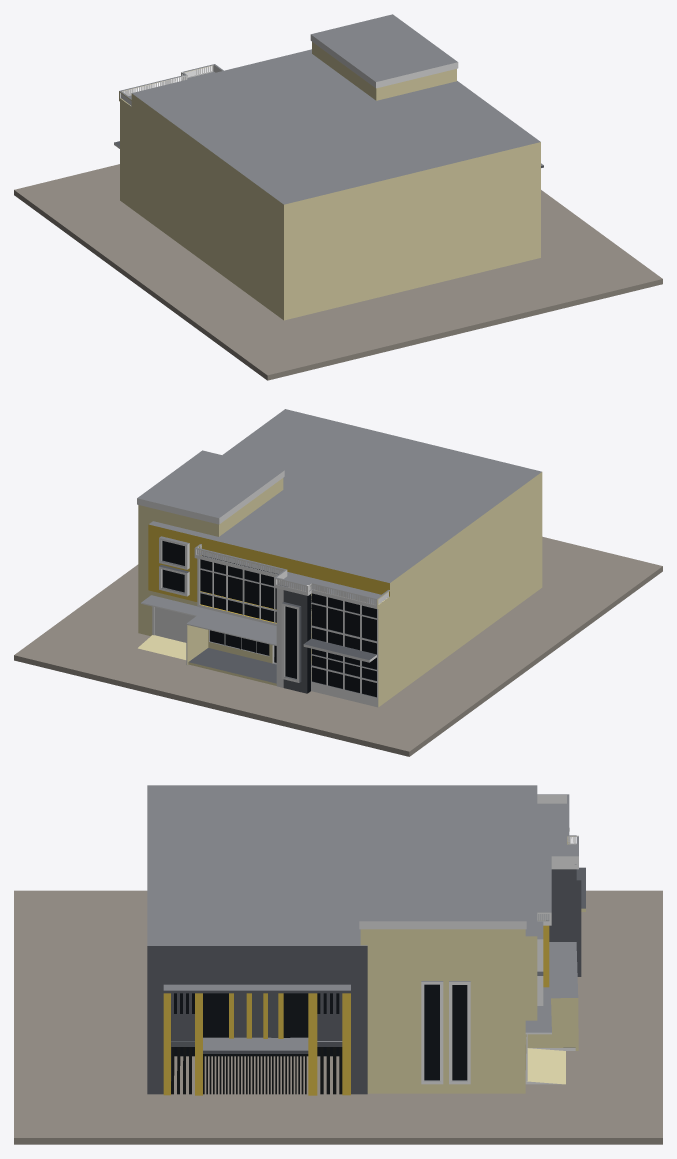
The model's file is Tkr_berwarna.glb.
3 renders of one model, top to bottom at view 1: azimuth 30°, elevation 25°; view 2: azimuth 150°, elevation 25°; view 3: azimuth 270°, elevation 25°, orthographic. The views are drawn at different scales.
Parts seen in each view (by area): view 1: Cube, Cube.001; view 2: Cube, Cube.001; view 3: Cube, Cube.001.
Boxes of the visible parts, left/top/right/bottom form: Cube: left=114, top=14, right=543, bottom=320; Cube.001: left=14, top=164, right=662, bottom=380; Cube: left=137, top=409, right=542, bottom=707; Cube.001: left=14, top=536, right=662, bottom=756; Cube: left=147, top=785, right=585, bottom=1095; Cube.001: left=14, top=890, right=662, bottom=1144.
Size of the model in its own units: 24.75 by 8.39 by 27.48.
